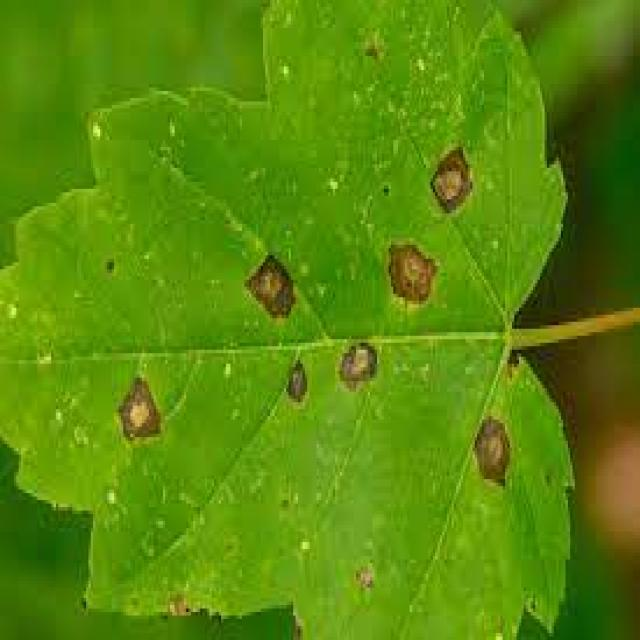Cotton Ball Rot: (242, 249, 300, 326), (384, 235, 440, 312), (426, 140, 477, 217), (114, 371, 165, 448), (470, 409, 514, 490)
